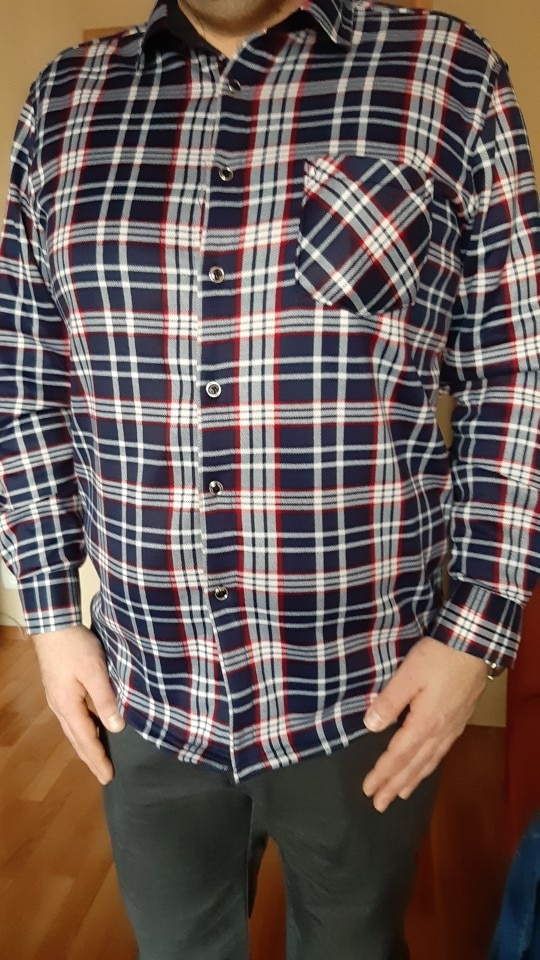shirts: (6, 8, 533, 768)
